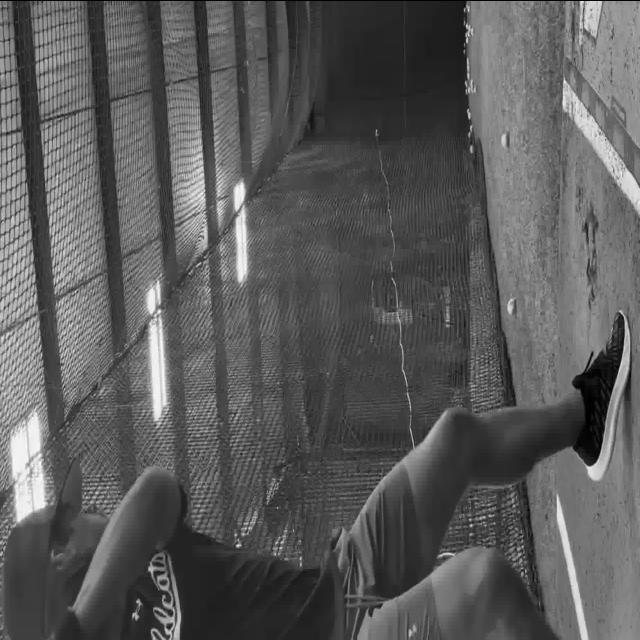baseball: (506, 296, 516, 316), (501, 132, 509, 148)
shoe: (572, 309, 632, 481)
